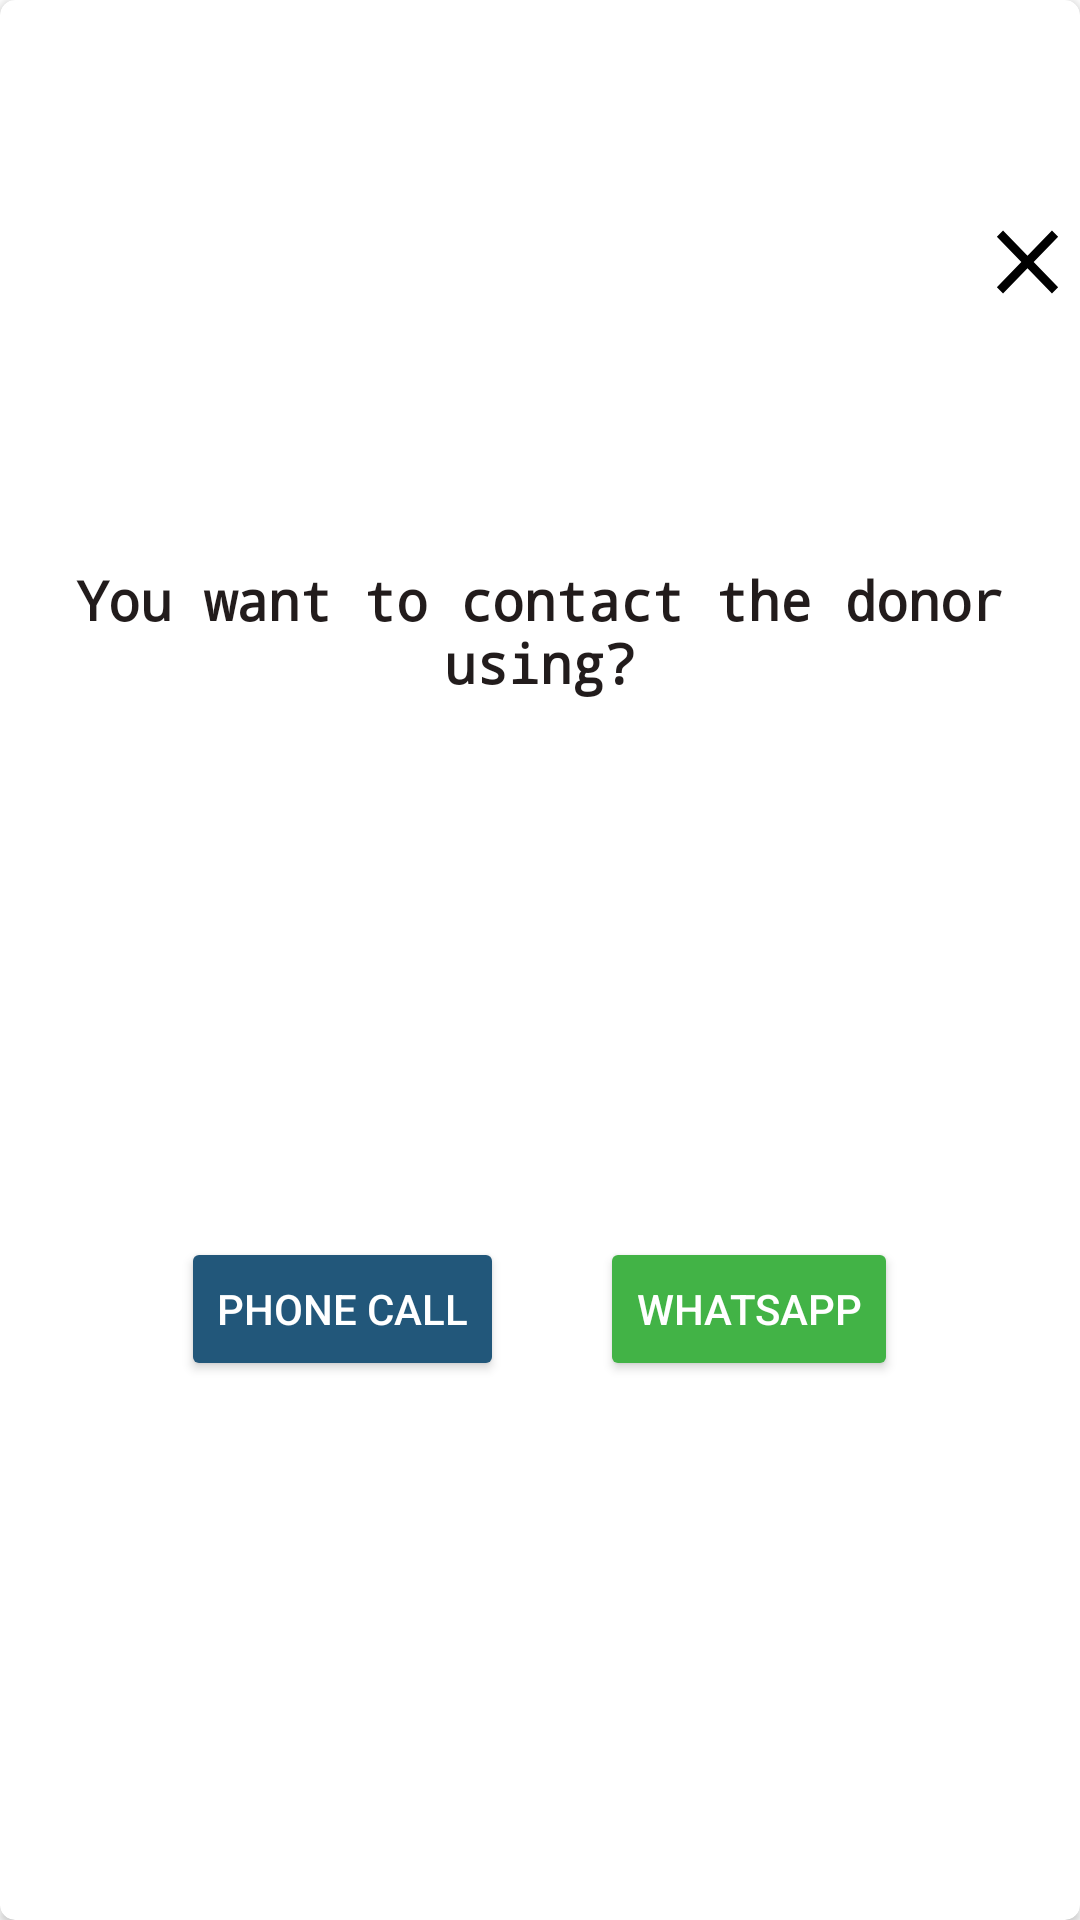

Point at icon controls on the screen. Image size 1080w x 1920h, points as point (x, y).
close: point (1027, 262)
